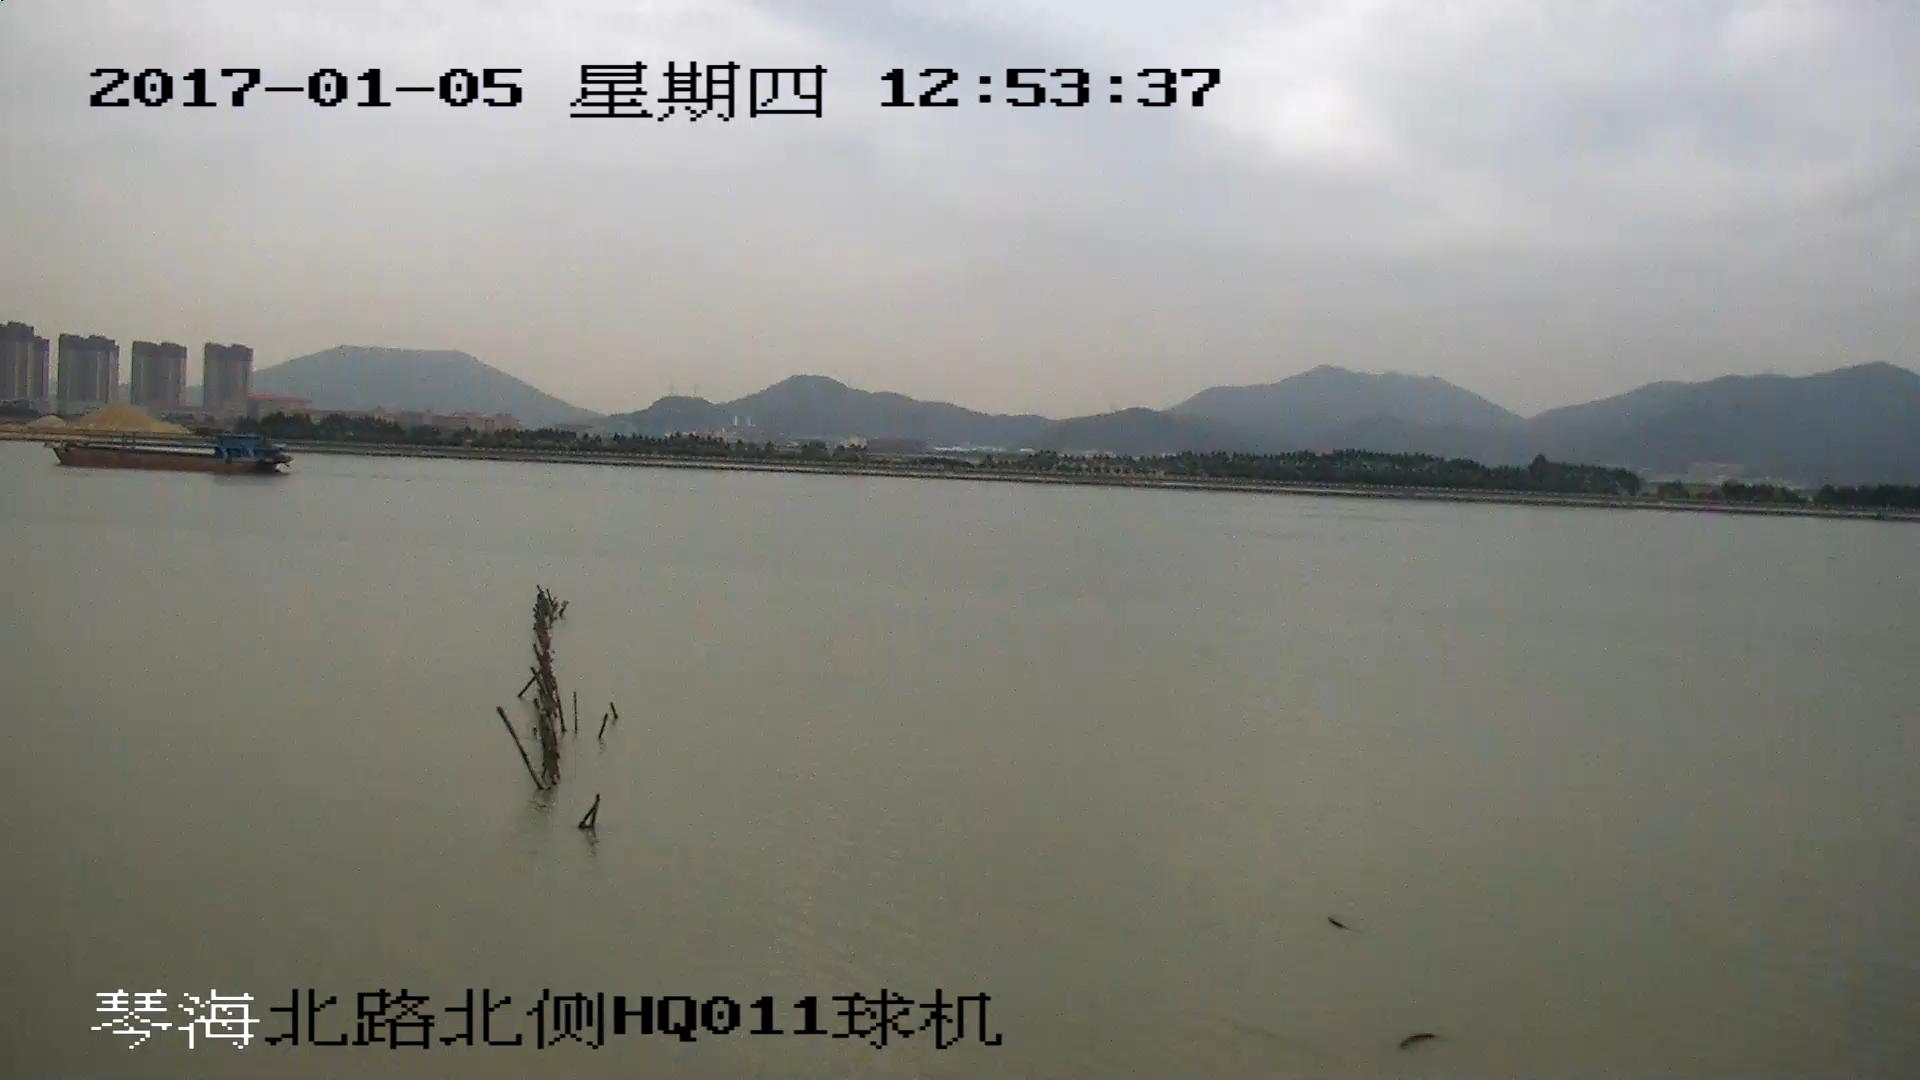bulk cargo carrier: (49, 435, 291, 473)
